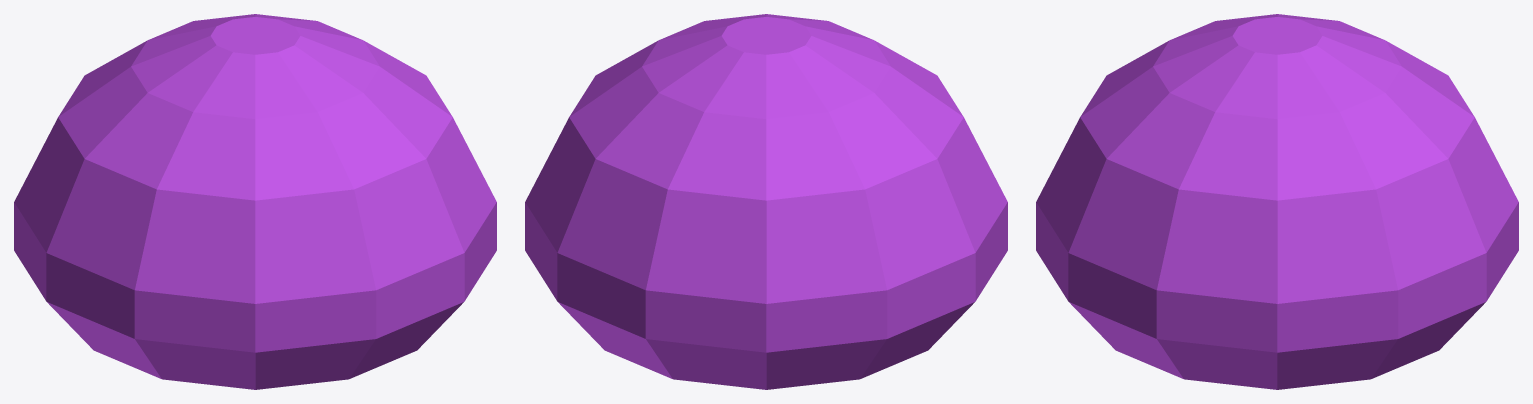
File: slime2.fbx
3 views of the same model, side by side, from view 1: azimuth 30°, elevation 25°; view 2: azimuth 150°, elevation 25°; view 3: azimuth 270°, elevation 25° (orthographic).
Visible parts, largest first — view 1: Cylinder; view 2: Cylinder; view 3: Cylinder.
Boxes of the visible parts, x1=… form: Cylinder: x1=14, y1=14, x2=496, y2=389; Cylinder: x1=525, y1=14, x2=1007, y2=389; Cylinder: x1=1036, y1=14, x2=1518, y2=389.
Bounding box in the file's own units: 647 × 407 × 647.
